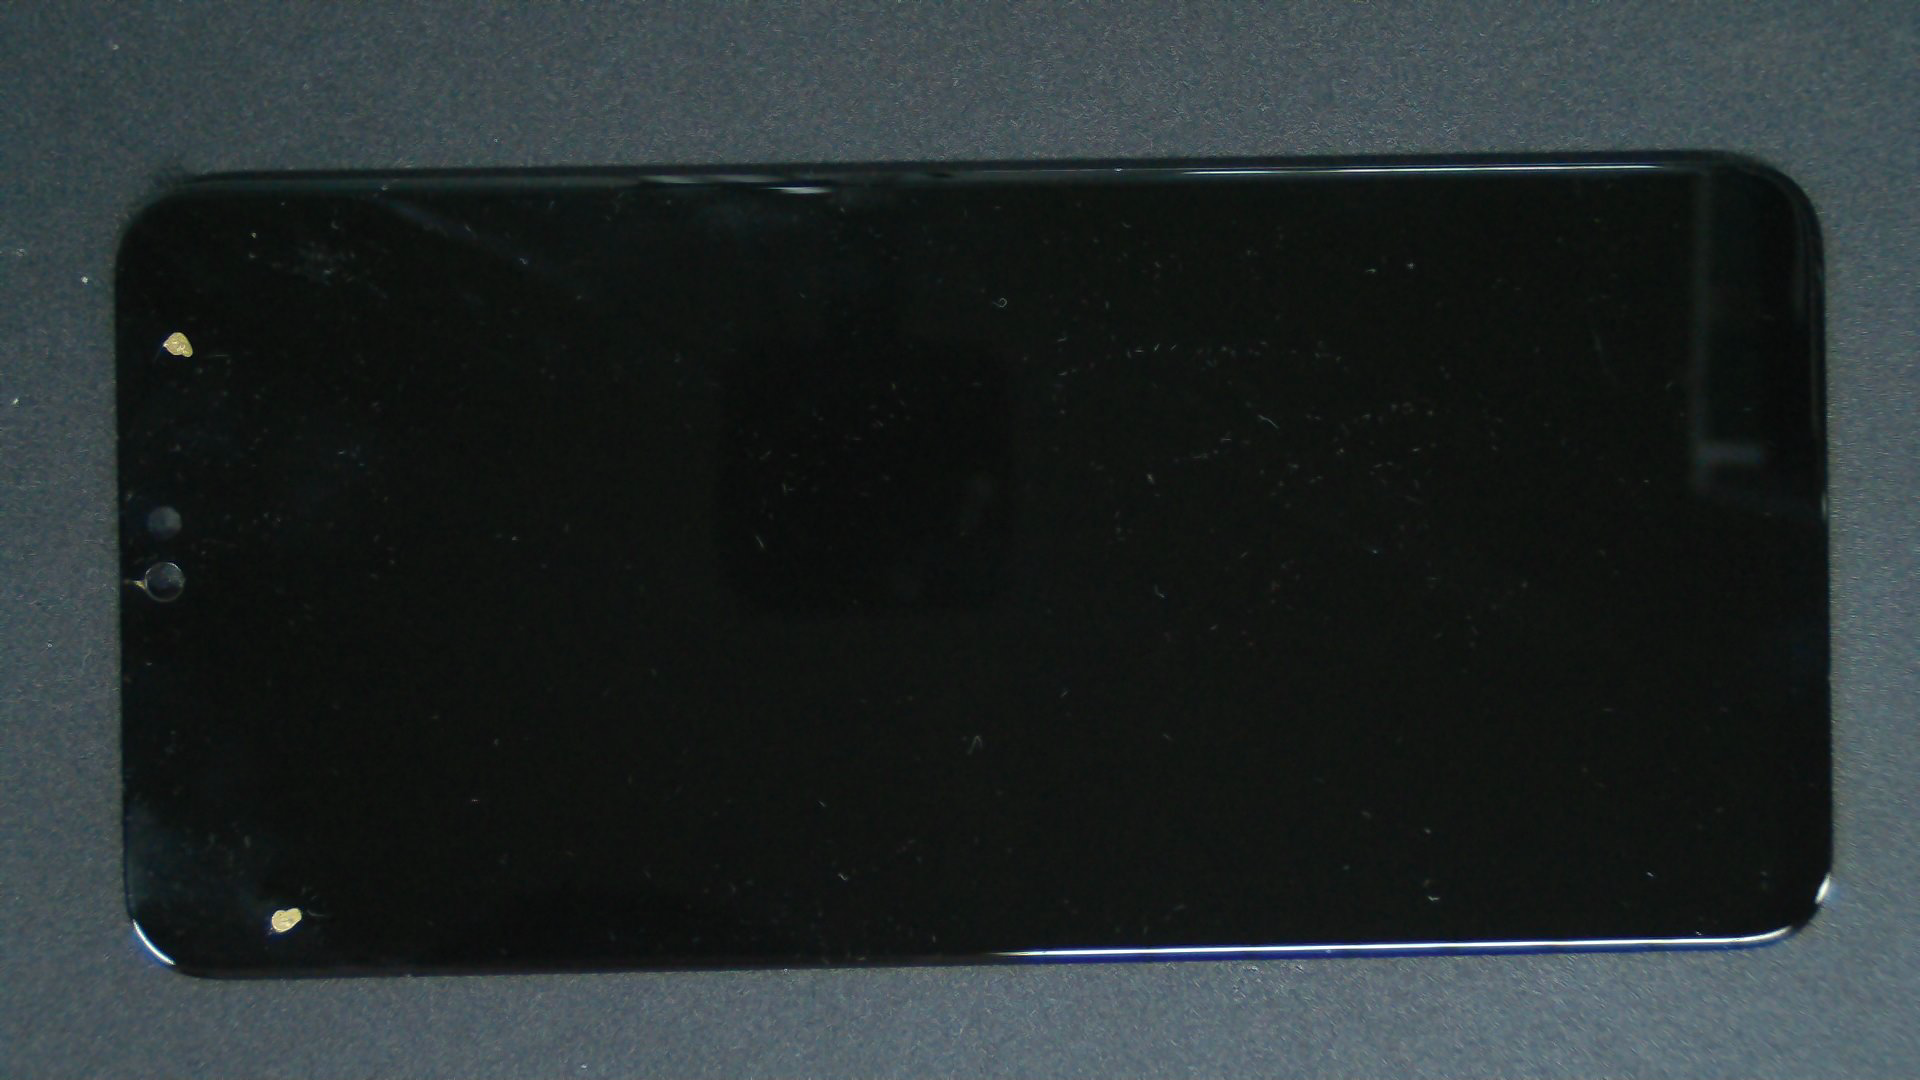defect: (270, 907, 302, 934), (161, 331, 193, 357)
